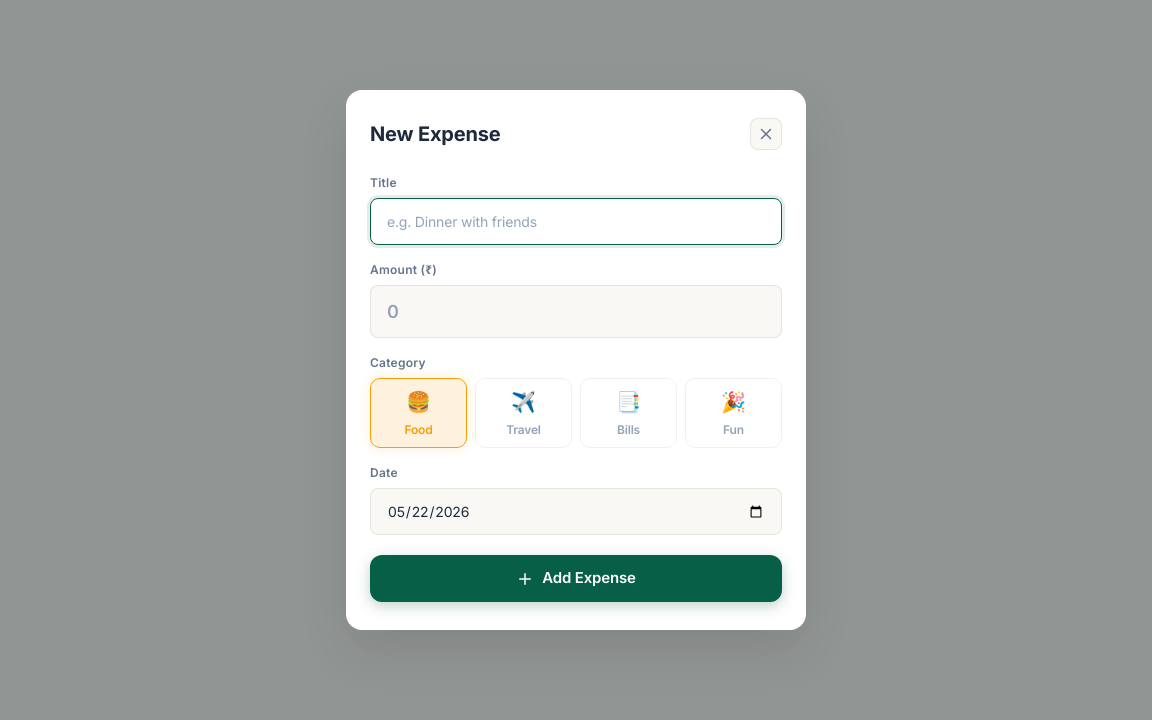
Scenario: Modal Components › AddExpenseModal › validates required title and valid amount
# Submit empty
Step 1. Click the button "Add Expense" → (576, 579), box 370,555 -> 782,602
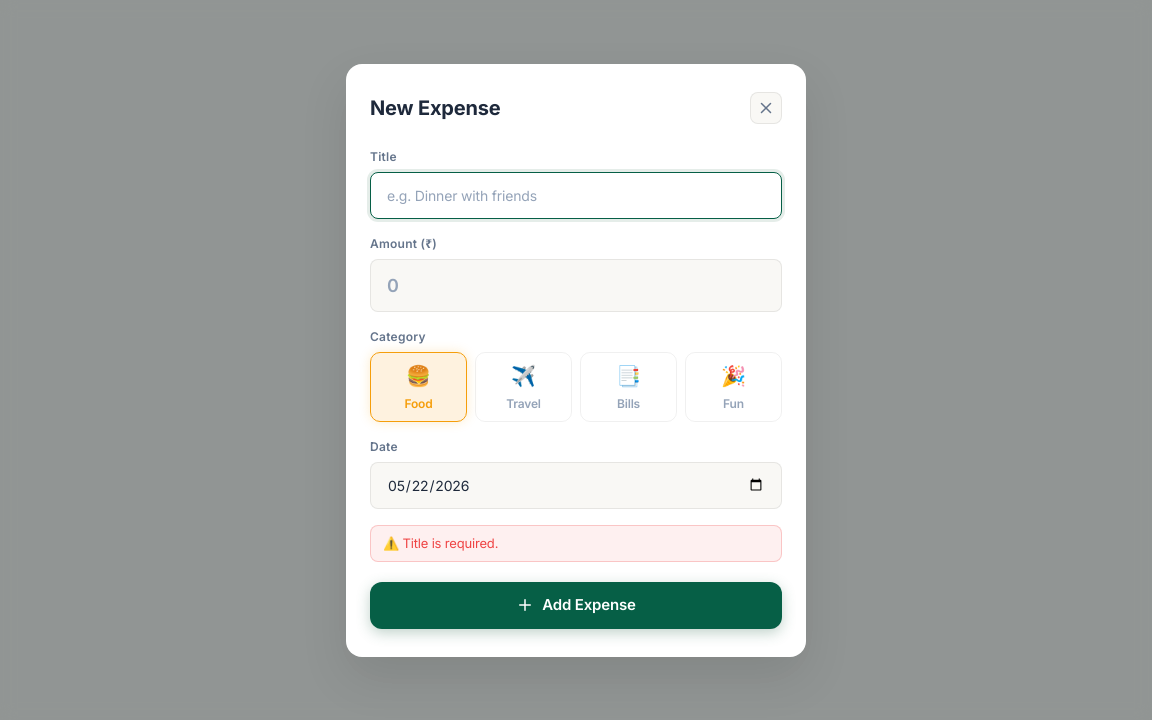
Now the text "⚠️ Title is required." is shown, box 370,524 -> 782,562
# Enter title but no amount
Step 2. Type "Lunch" into the field with id "input-title" → (576, 195), box 370,172 -> 782,218
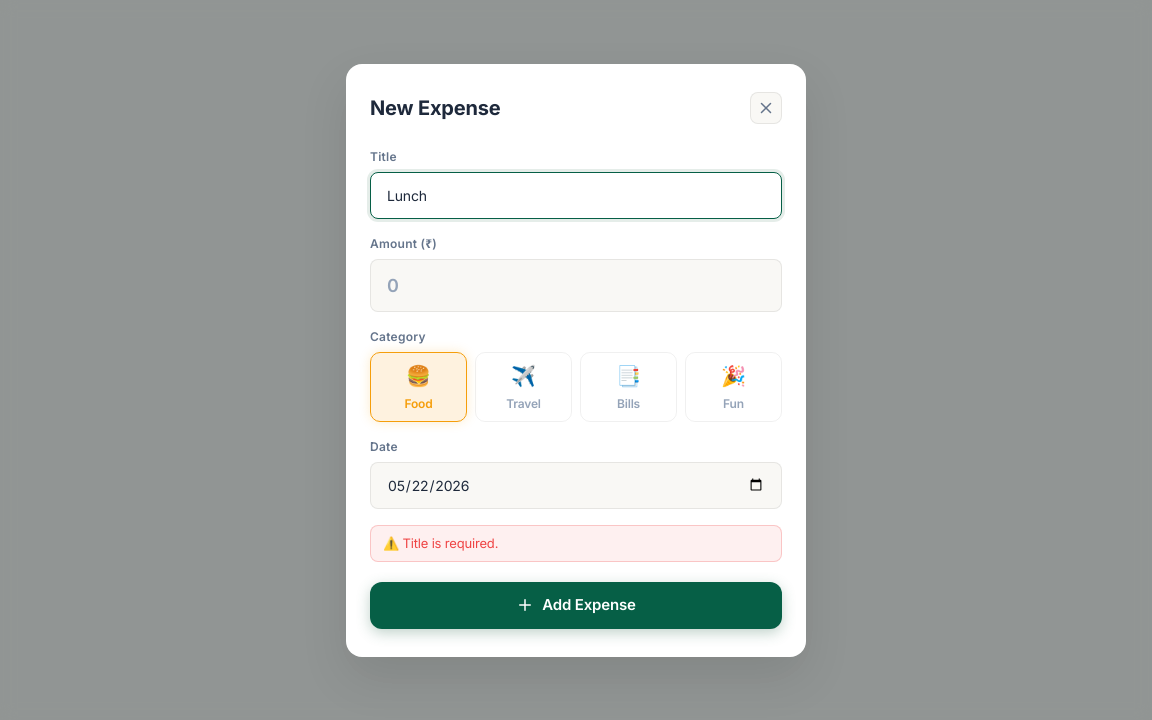
Step 3. Click the button "Add Expense" → (576, 605), box 370,582 -> 782,628
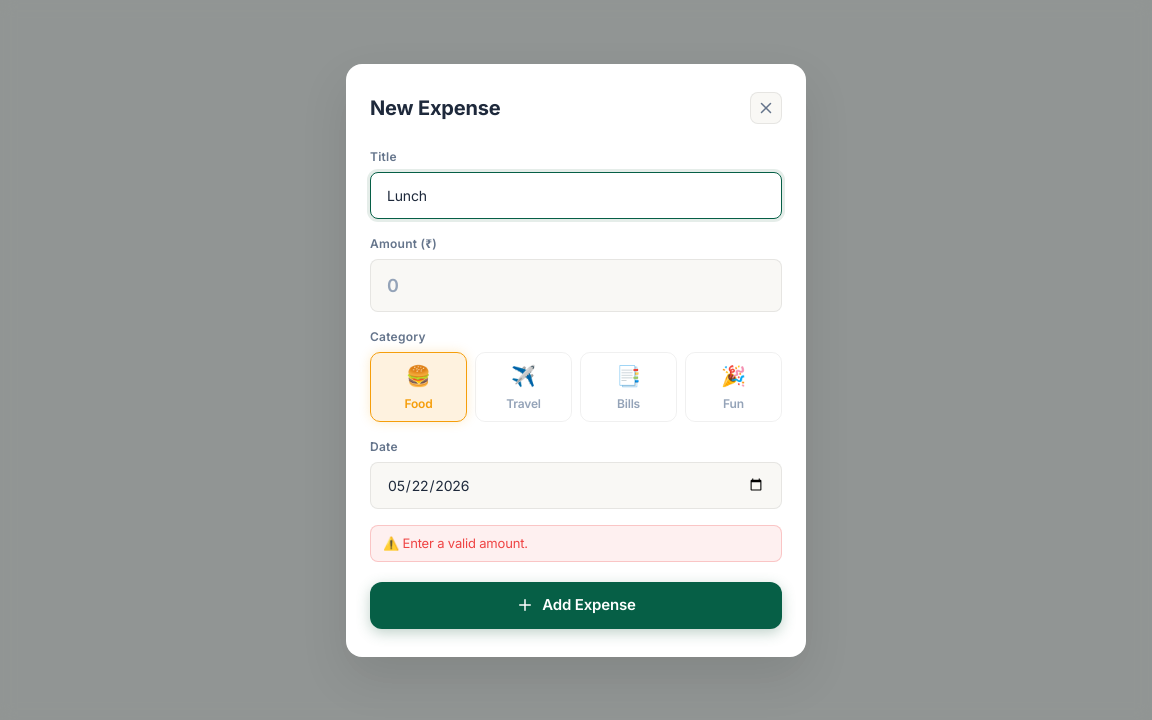
Now the text "⚠️ Enter a valid amount." is shown, box 370,524 -> 782,562
